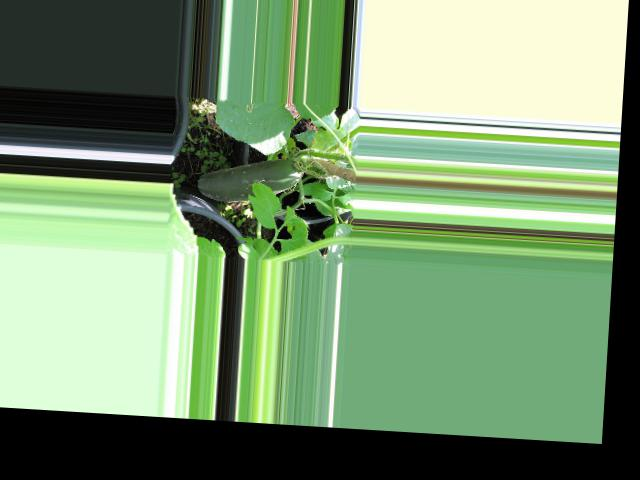cucumber: (197, 153, 303, 206)
